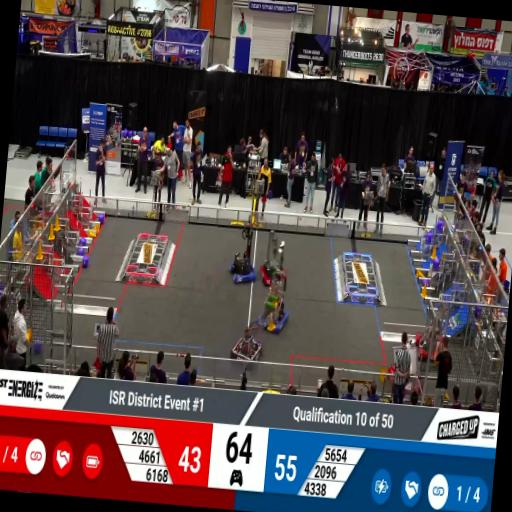robot: (411, 312, 450, 366), (259, 230, 291, 288), (385, 356, 423, 402), (228, 232, 259, 288), (256, 290, 292, 334), (230, 326, 264, 369)
